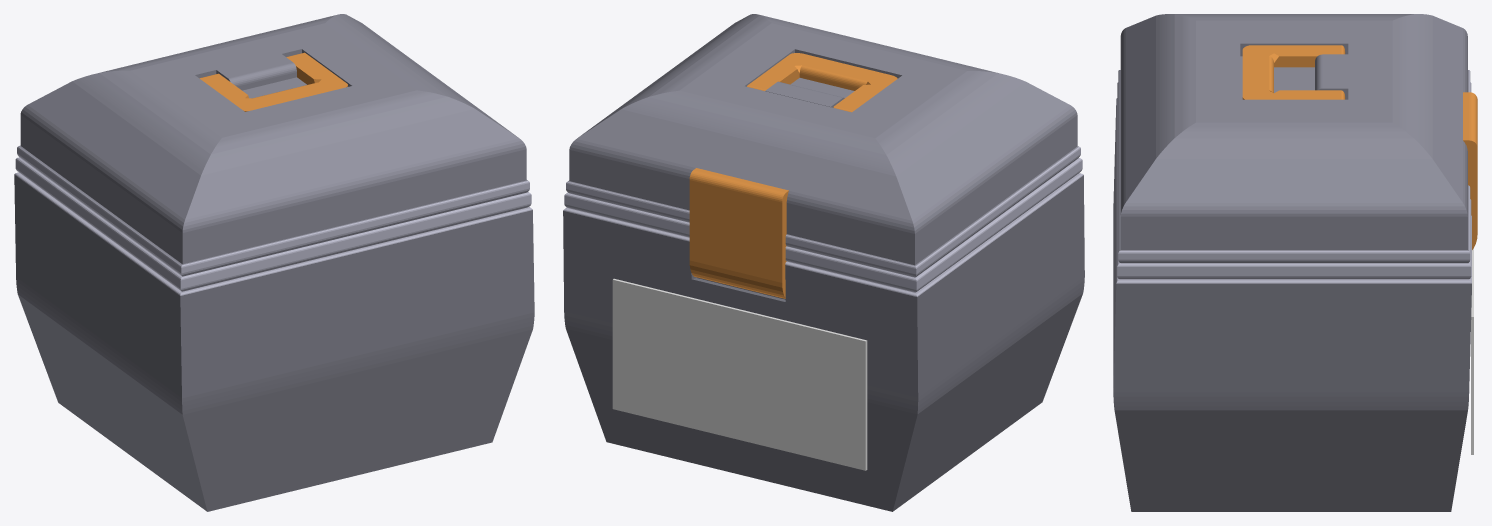
Rendered from thung dung da .fbx.
3 views of the same model, side by side, from view 1: azimuth 30°, elevation 25°; view 2: azimuth 150°, elevation 25°; view 3: azimuth 270°, elevation 25° (orthographic). The views are drawn at different scales.
Visible parts, largest first — view 1: Plane.021; view 2: Plane.021, Plane.022; view 3: Plane.021, Plane.022.
Boxes of the visible parts, left/top/right/bottom form: Plane.021: left=14, top=14, right=534, bottom=511; Plane.021: left=563, top=14, right=1084, bottom=511; Plane.022: left=612, top=278, right=867, bottom=470; Plane.021: left=1113, top=14, right=1477, bottom=511; Plane.022: left=1471, top=248, right=1473, bottom=454.
Size of the model in its own units: 71.05 by 65.66 by 59.23.
